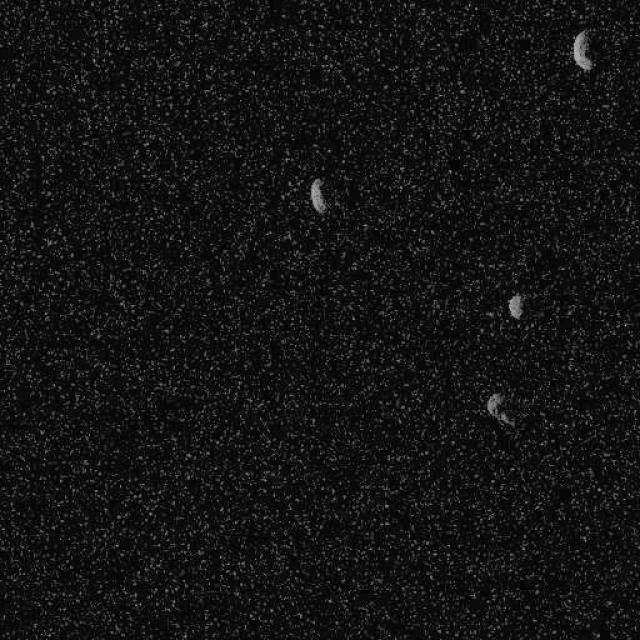D2: (485, 391, 515, 429), (571, 29, 594, 71), (308, 176, 328, 214), (506, 292, 524, 320)
